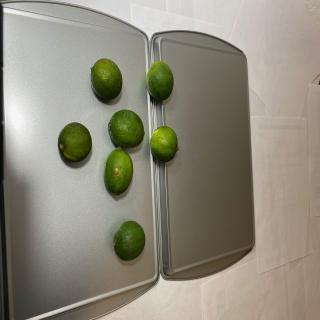Chilli: (57, 121, 92, 162)
Lemon: (104, 146, 134, 196), (108, 109, 144, 148), (90, 58, 123, 100), (113, 220, 146, 261), (146, 60, 174, 101), (150, 126, 179, 162)
